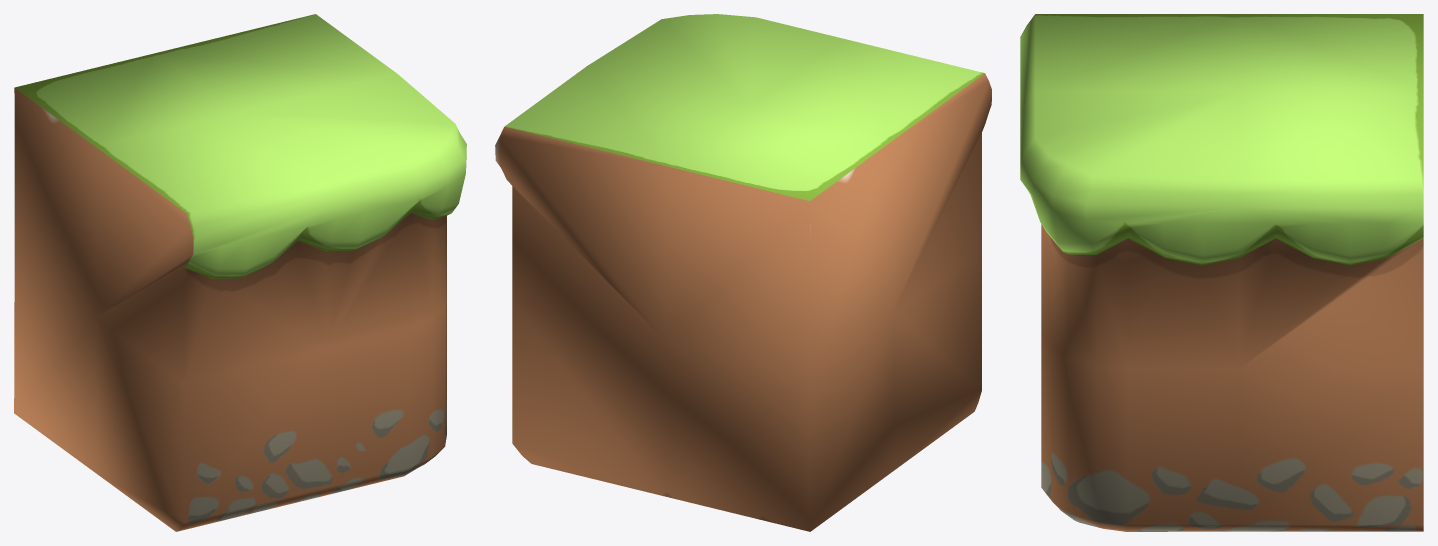
The model's file is V1.Ground.Corner 2.fbx.
3 renders of one model, left to right at view 1: azimuth 30°, elevation 25°; view 2: azimuth 150°, elevation 25°; view 3: azimuth 270°, elevation 25°, orthographic. The views are drawn at different scales.
Parts seen in each view (by area): view 1: V1.Corner; view 2: V1.Corner; view 3: V1.Corner.
Part boxes in pixels (x1=…): V1.Corner: x1=14, y1=14, x2=466, y2=531; V1.Corner: x1=495, y1=14, x2=991, y2=531; V1.Corner: x1=1020, y1=14, x2=1423, y2=531.
Bounding box in the file's own units: 200 × 200 × 200.
